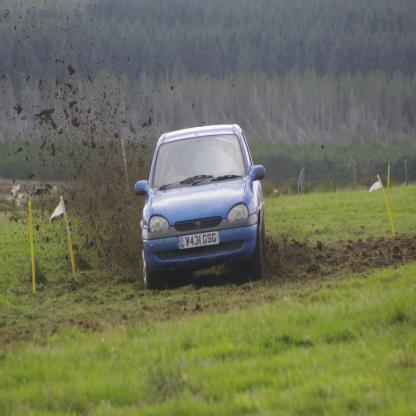Car: (132, 124, 268, 288)
